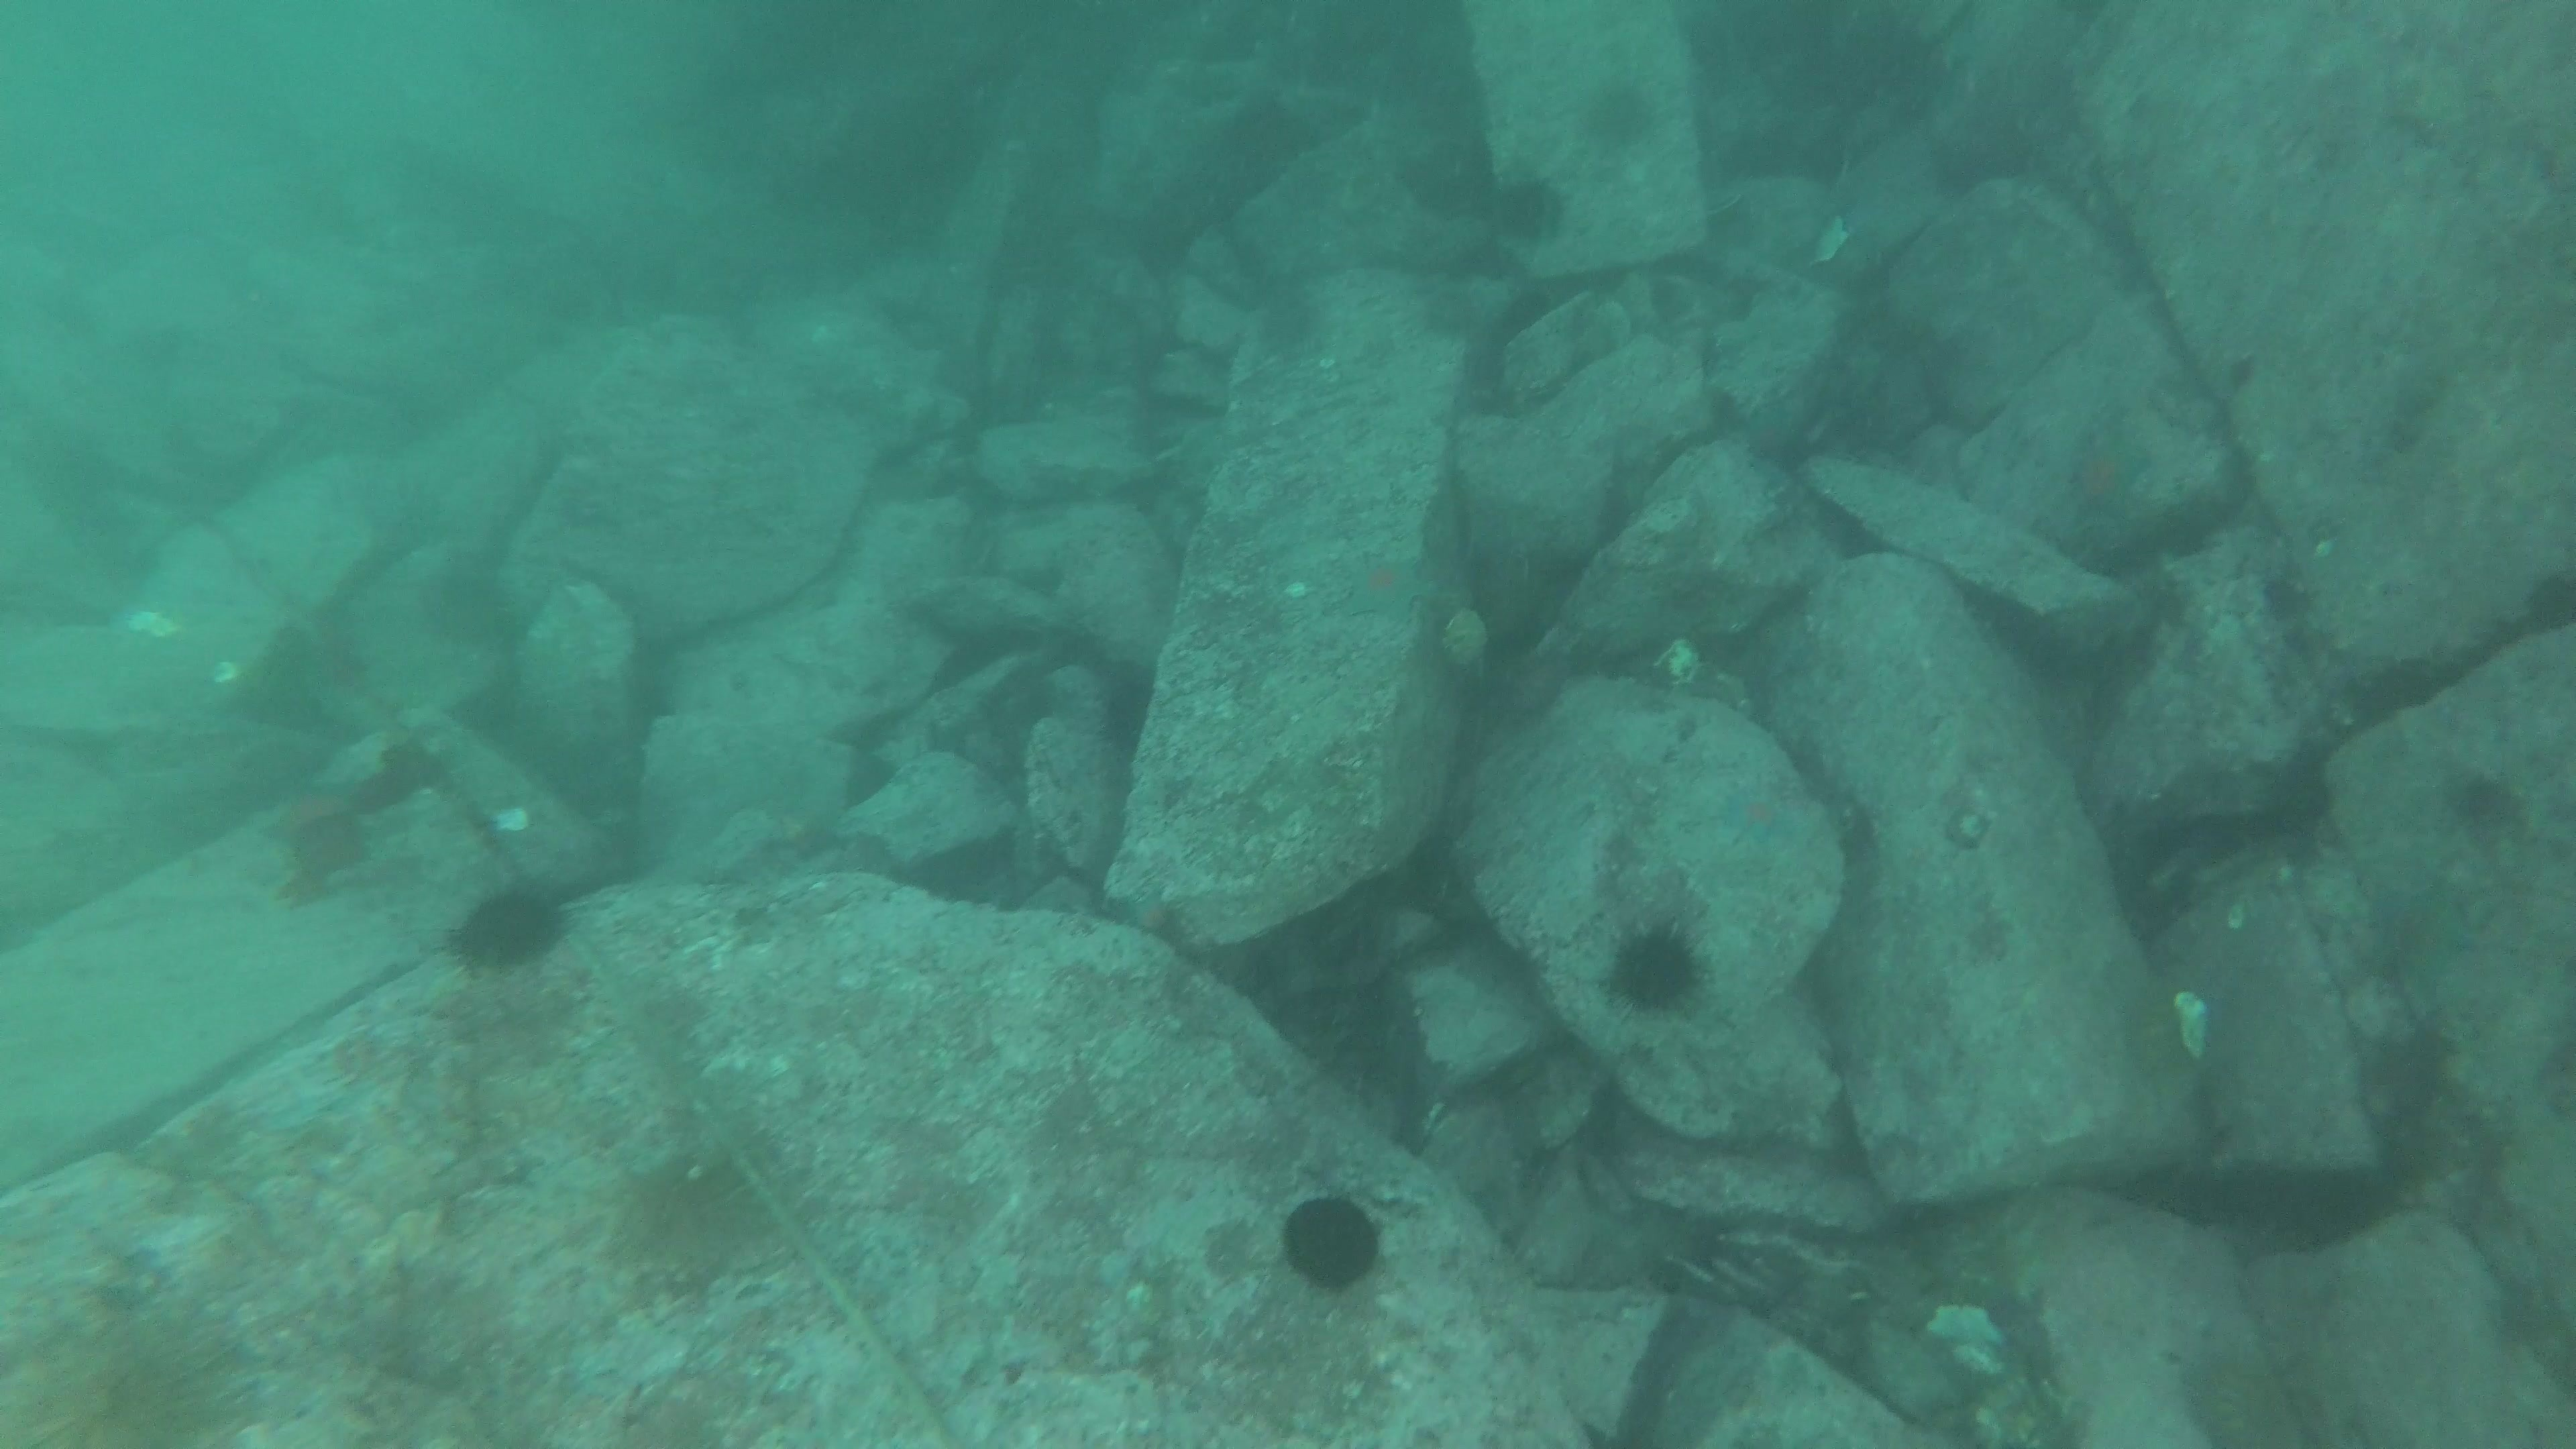echinus: (5, 1300, 253, 1445), (607, 1141, 777, 1284), (442, 876, 575, 980), (1598, 916, 1713, 1021), (1575, 74, 1663, 161), (1484, 166, 1571, 251)
starfish: (2054, 414, 2158, 533), (1322, 541, 1437, 628), (1706, 773, 1813, 858)
